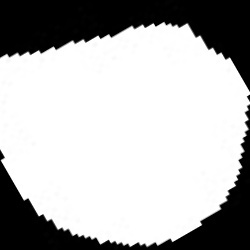spot: (3, 23, 249, 244)
